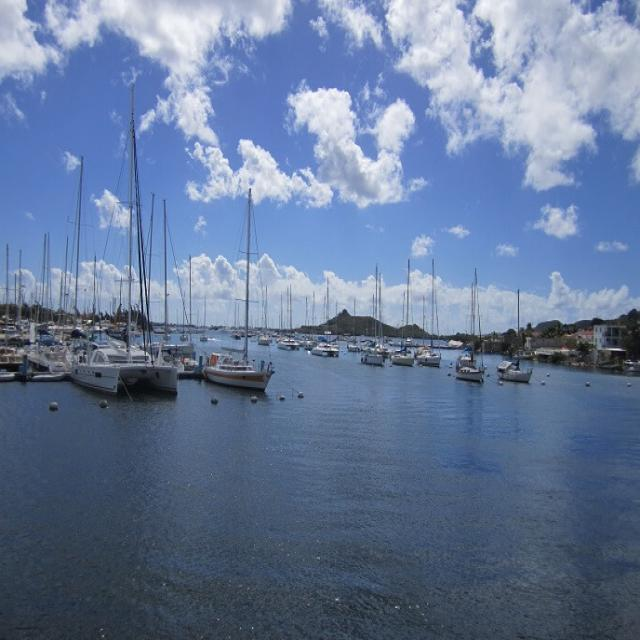houseboat: (192, 351, 273, 401), (85, 340, 171, 386), (502, 359, 536, 401), (360, 350, 393, 372), (447, 368, 492, 384), (419, 340, 436, 360)
